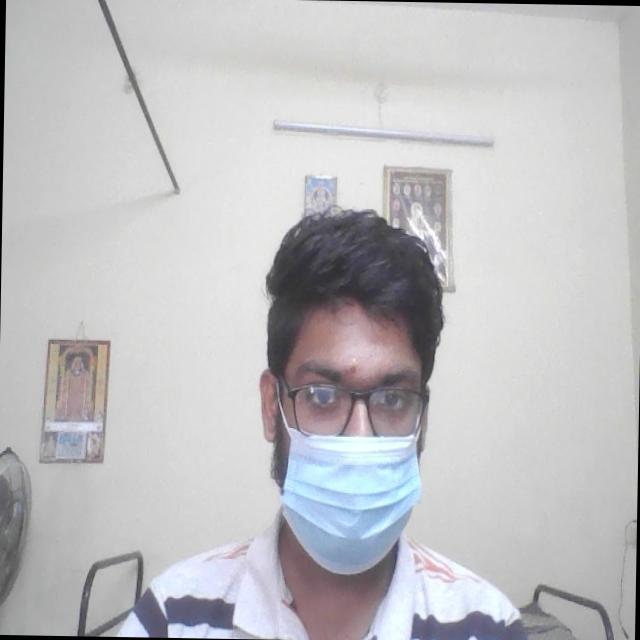Focused: (281, 350, 429, 532)
